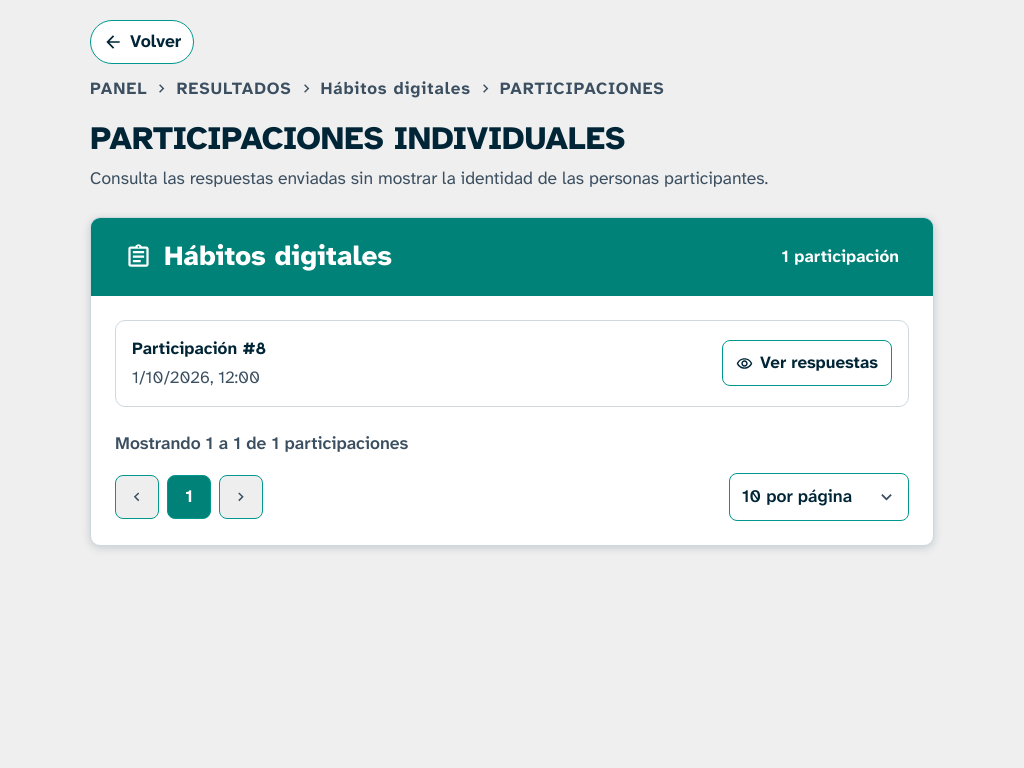
it: SurveyParticipationsPage › muestra respuestas numéricas, booleanas, opciones y matrices
The width and height of the screenshot is (1024, 768).
Click the button "Ver respuestas" at (807, 363), box 722,340 -> 892,386
(page scrolled)
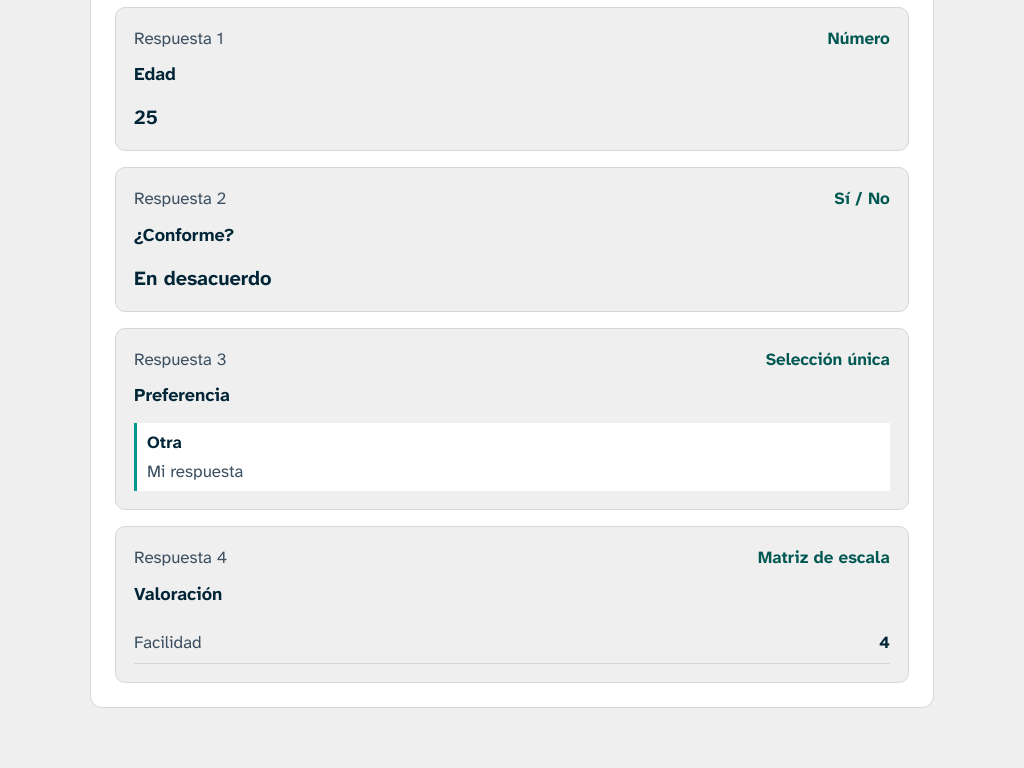
Check: the text "En desacuerdo" is shown, box 134,265 -> 271,291
Check: the text "25" is shown, box 134,104 -> 158,130
Check: the text "Mi respuesta" is shown, box 147,460 -> 243,482
